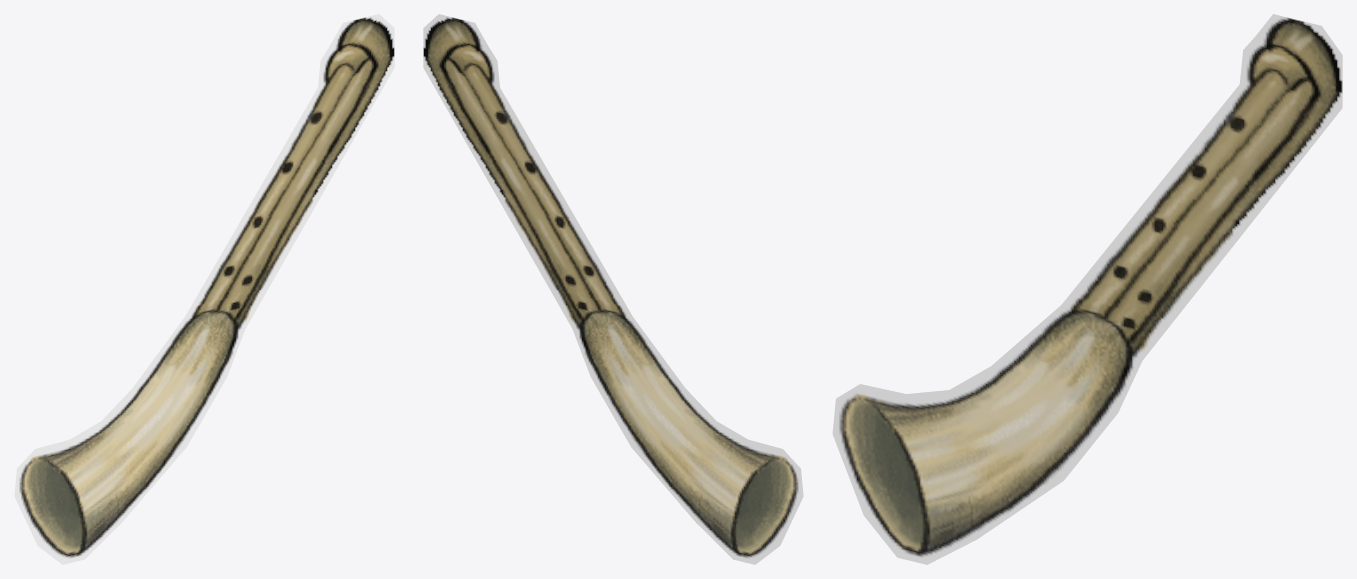
3 renders of one model, left to right at view 1: azimuth 30°, elevation 25°; view 2: azimuth 150°, elevation 25°; view 3: azimuth 330°, elevation 25°, orthographic. The views are drawn at different scales.
Parts seen in each view (by area): view 1: Plane; view 2: Plane; view 3: Plane.
Part boxes in pixels (x1,y1,x2,y2): Plane: [14, 14, 394, 564]; Plane: [423, 14, 803, 564]; Plane: [832, 14, 1342, 564].
Size of the model in its own units: 2.14 by 2.55 by 0.
Materials: 1 (1 with a texture image).
